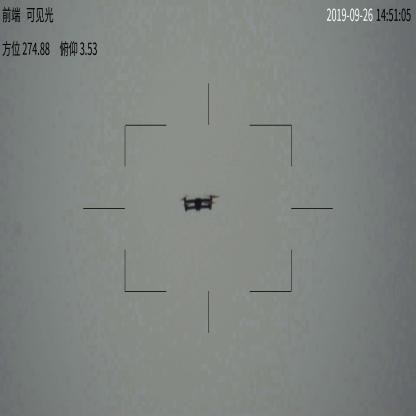uav: (175, 192, 221, 215)
